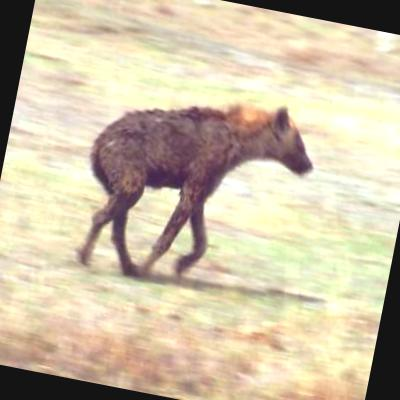hyenas: (0, 33, 345, 341)
